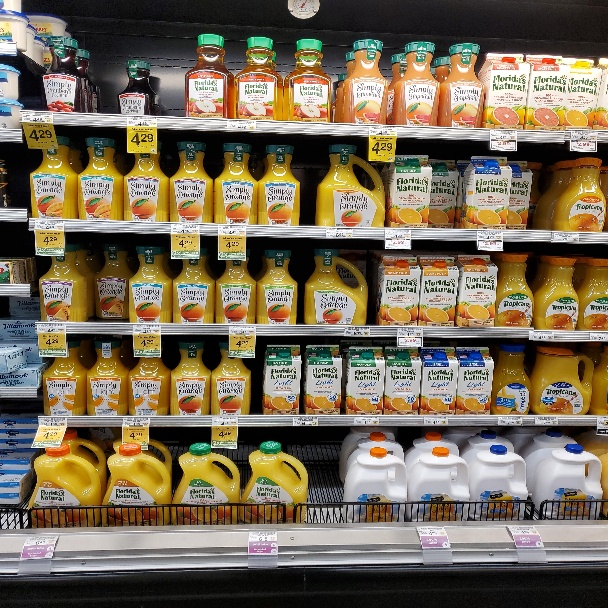All PRICE TAGS: (23, 534, 60, 546), (248, 531, 278, 543), (508, 525, 541, 535), (22, 112, 53, 122), (33, 220, 64, 230), (416, 526, 447, 536), (126, 117, 156, 127), (218, 225, 247, 235), (131, 324, 160, 334), (554, 232, 580, 243), (170, 224, 198, 234), (570, 130, 597, 140), (228, 120, 255, 130), (325, 228, 352, 238), (36, 323, 66, 332), (39, 417, 67, 426), (369, 126, 396, 135), (229, 325, 256, 334), (122, 417, 149, 426), (211, 417, 238, 426), (530, 331, 554, 341), (385, 229, 411, 238), (344, 327, 370, 336), (354, 416, 380, 425), (293, 417, 318, 426), (423, 416, 448, 425), (498, 416, 523, 425), (489, 131, 516, 139), (477, 231, 503, 239), (534, 417, 559, 425), (398, 328, 423, 336), (589, 332, 607, 341)
